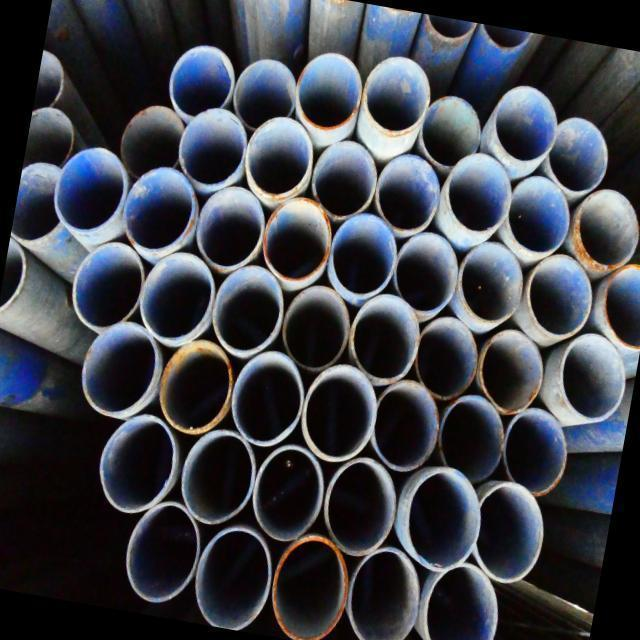pipe: (393, 462, 482, 580), (93, 415, 184, 521), (78, 318, 163, 428), (47, 140, 131, 244), (226, 350, 307, 455), (192, 528, 272, 634), (175, 430, 257, 532), (119, 504, 203, 603), (248, 444, 327, 549), (67, 238, 148, 340), (155, 339, 235, 440), (299, 365, 380, 464), (270, 540, 349, 640), (321, 458, 400, 557), (496, 406, 579, 499), (345, 294, 426, 389), (471, 486, 547, 586), (552, 332, 630, 429), (121, 166, 201, 258), (139, 250, 218, 342), (358, 53, 434, 146), (343, 552, 422, 640), (370, 381, 443, 476), (260, 197, 335, 289), (369, 152, 448, 239), (210, 265, 286, 355), (417, 562, 504, 640), (487, 82, 564, 169), (472, 329, 546, 417), (441, 150, 514, 239), (240, 116, 319, 198), (194, 187, 269, 272), (520, 257, 594, 343), (390, 229, 462, 317), (174, 113, 254, 191), (294, 51, 365, 137), (282, 285, 354, 369), (331, 213, 401, 299), (572, 187, 640, 275), (456, 243, 528, 325), (306, 143, 382, 220), (166, 41, 237, 123), (499, 181, 572, 260), (439, 396, 505, 481), (118, 102, 189, 180), (411, 319, 479, 397), (548, 113, 615, 190), (10, 159, 69, 245), (233, 56, 300, 128), (420, 91, 485, 165), (597, 261, 640, 346), (0, 237, 39, 328), (24, 107, 78, 165), (33, 46, 76, 112), (474, 24, 529, 73), (422, 15, 475, 54)
